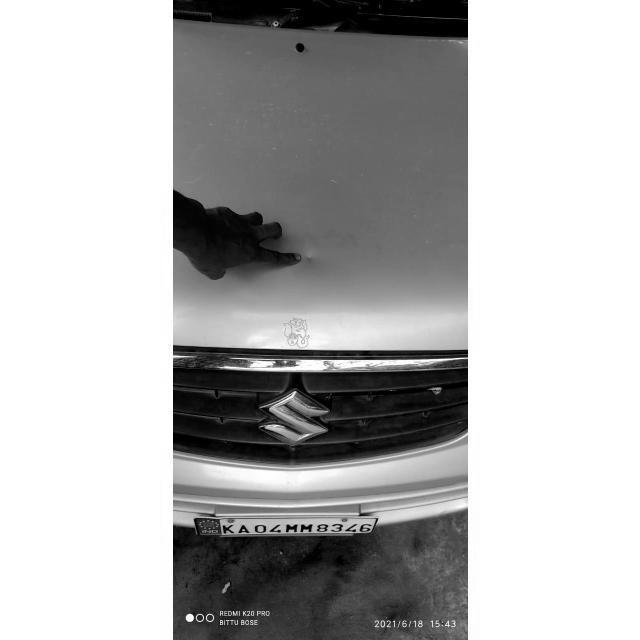bonnet-dent: (174, 16, 467, 392)
